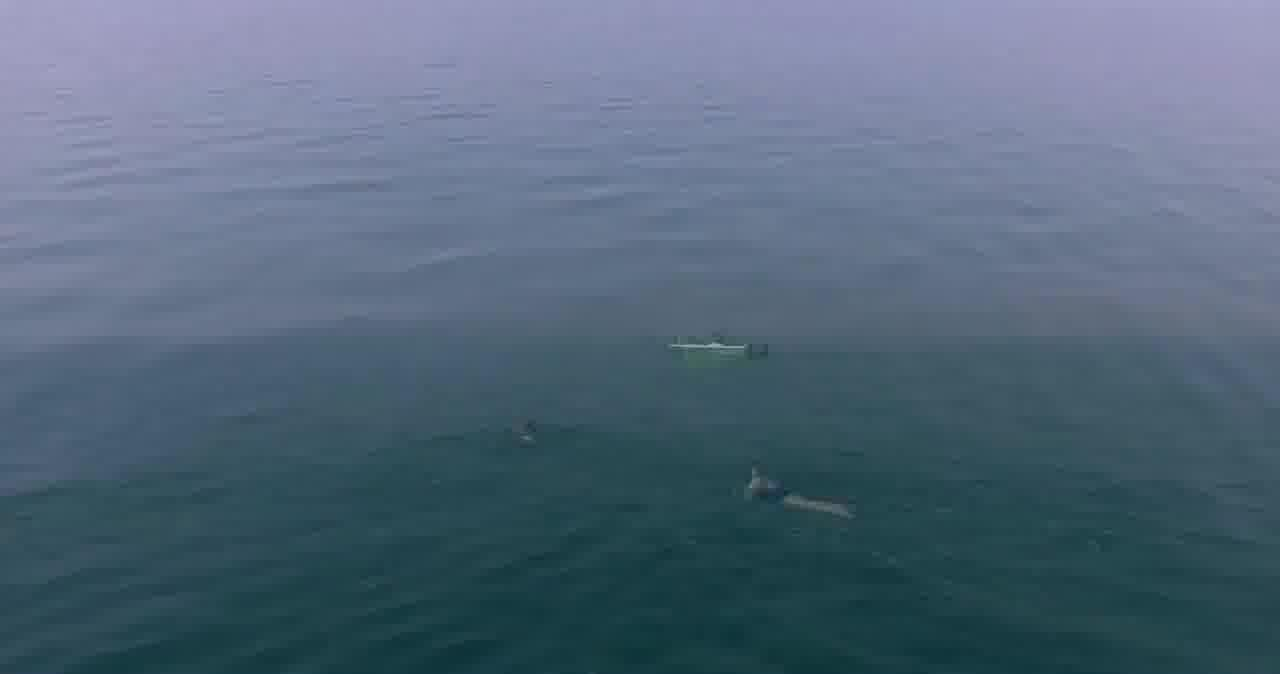swimmer: (734, 465, 877, 530), (509, 406, 554, 478)
